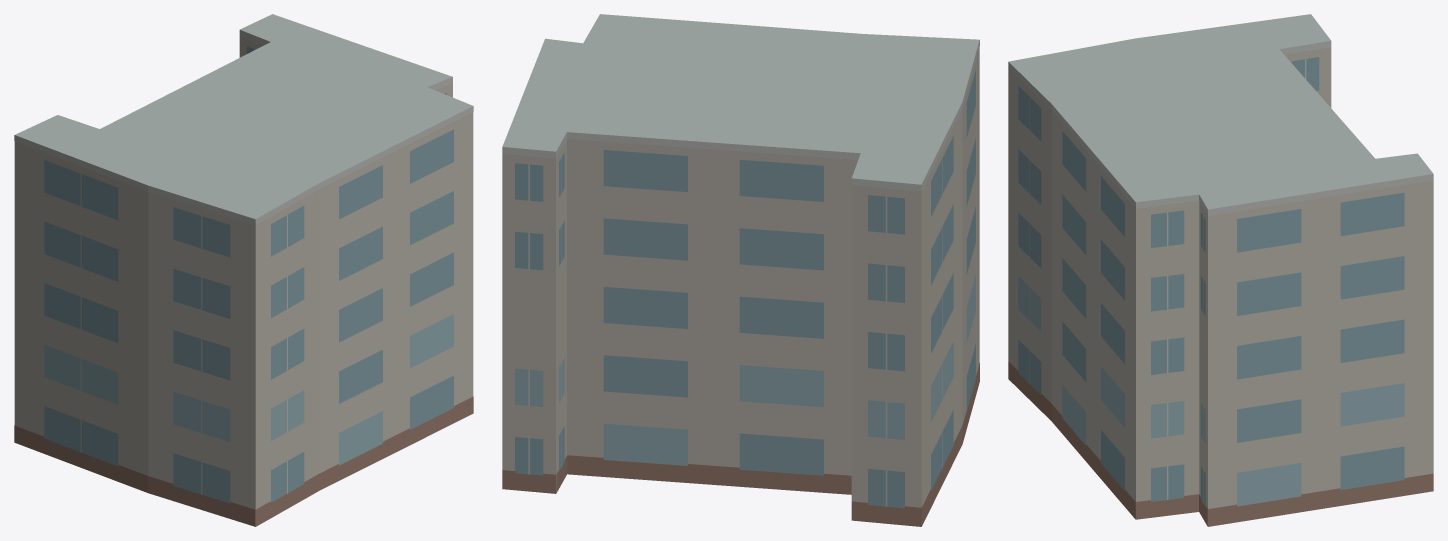
The model's file is survey-upis-32759764.glb.
3 views of the same model, side by side, from view 1: azimuth 30°, elevation 25°; view 2: azimuth 150°, elevation 25°; view 3: azimuth 270°, elevation 25° (orthographic). The views are drawn at different scales.
Visible parts, largest first — view 1: survey-upis-32759764.tmp; view 2: survey-upis-32759764.tmp; view 3: survey-upis-32759764.tmp.
Boxes of the visible parts, x1,y1,x2,y2 form: survey-upis-32759764.tmp: (14,14,473,526); survey-upis-32759764.tmp: (502,14,979,526); survey-upis-32759764.tmp: (1008,14,1433,526).
Bounding box in the file's own units: 16.1 × 12.18 × 14.8.
